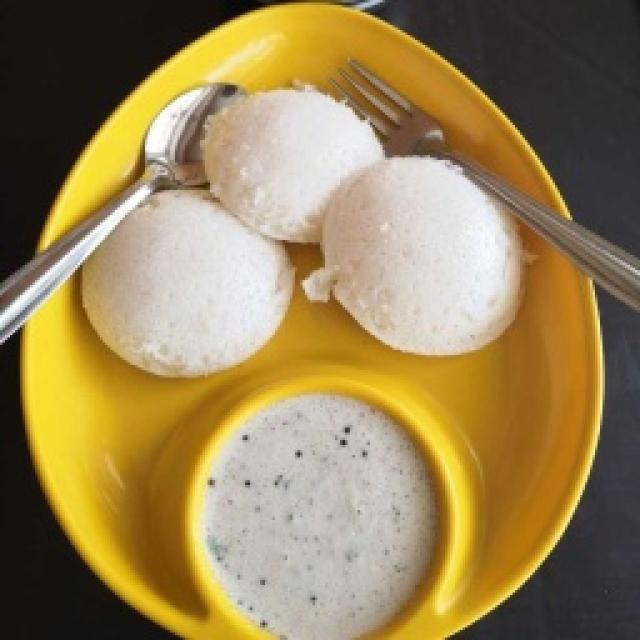idli: (114, 116, 500, 386)
